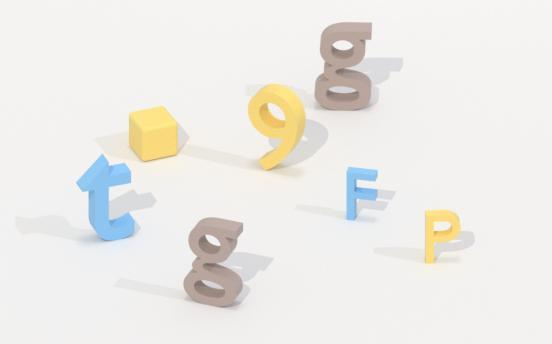chu_khoi: (183, 217, 242, 306), (315, 22, 371, 109), (77, 155, 134, 240), (425, 210, 460, 262), (346, 167, 377, 219)
lap_phuong: (129, 106, 177, 160)
so_khoi: (248, 84, 305, 169)
